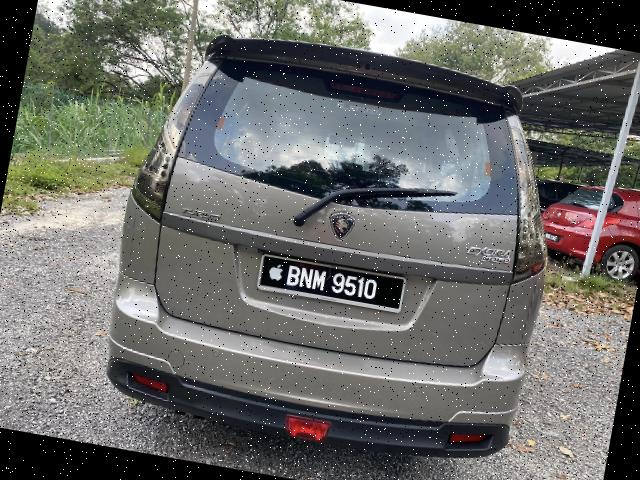License_Plate: (262, 256, 399, 309)
car: (85, 15, 585, 480)
